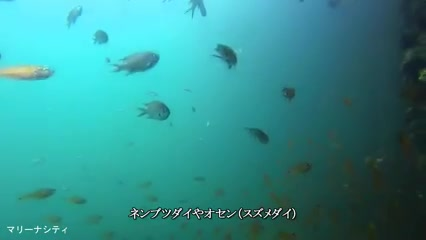mezina: (103, 46, 169, 81), (127, 97, 174, 128)
